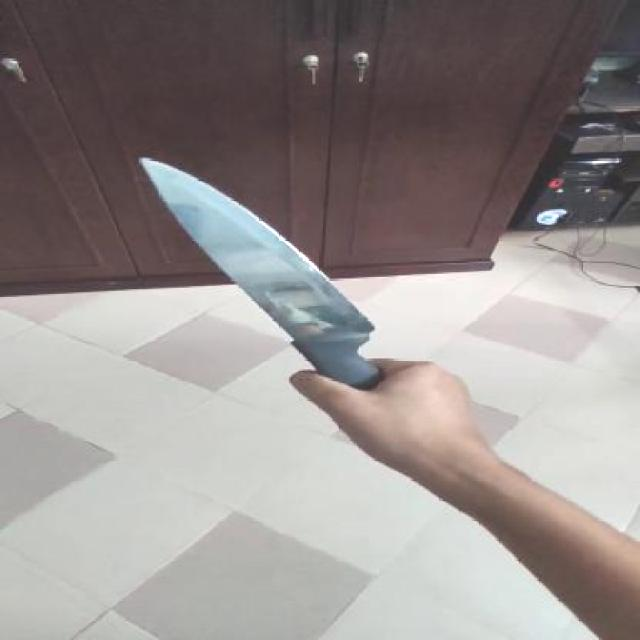knife: (134, 157, 371, 389)
